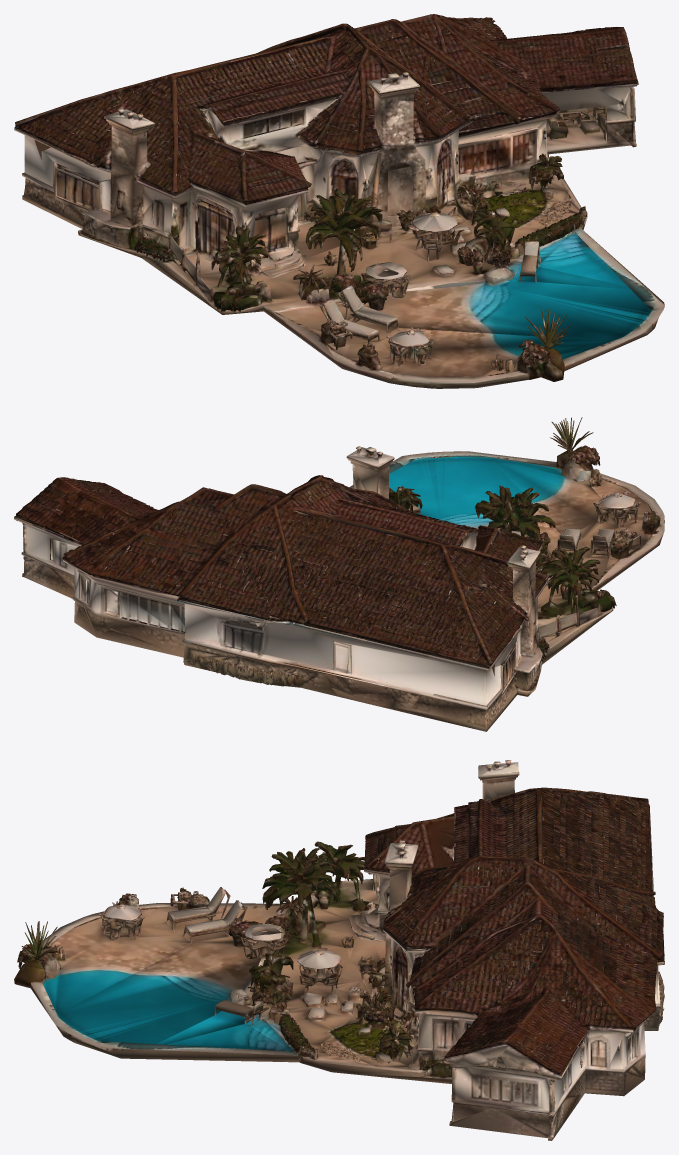
File: house.glb
3 views of the same model, one above another, from view 1: azimuth 30°, elevation 25°; view 2: azimuth 150°, elevation 25°; view 3: azimuth 270°, elevation 25° (orthographic). The views are drawn at different scales.
Visible parts, largest first — view 1: mesh_node; view 2: mesh_node; view 3: mesh_node.
Part boxes in pixels (x1,y1,x2,y2): mesh_node: (14, 14, 664, 388); mesh_node: (14, 417, 664, 731); mesh_node: (14, 760, 664, 1140).
Size of the model in its own units: 1.84 by 0.4881 by 1.89.
1 material, 1 textured.
